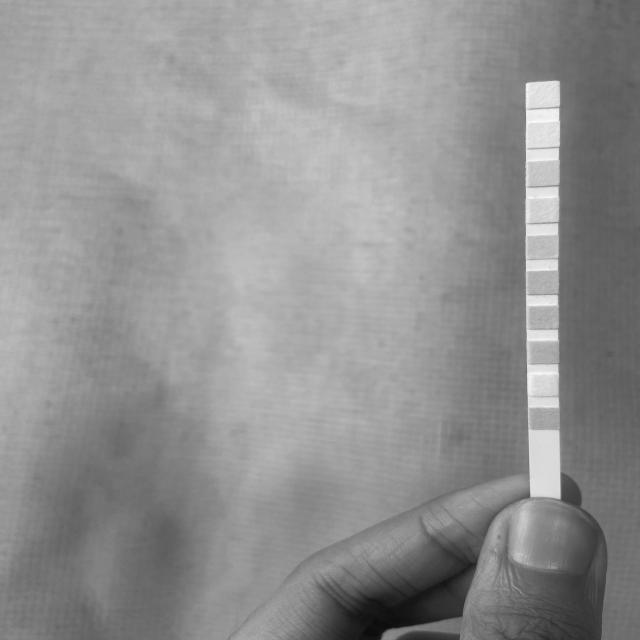Bilirubin: (530, 375, 558, 395)
Blood: (528, 272, 558, 293)
Glucose: (532, 408, 558, 429)
Ketone: (530, 342, 558, 362)
Leukocytes: (528, 85, 558, 106)
Nitrite: (528, 124, 558, 146)
Protein: (527, 200, 558, 221)
SpGravity: (529, 307, 558, 328)
Urobilinogen: (528, 163, 558, 185)
background: (0, 0, 640, 640)
pH: (528, 236, 557, 258)
strip: (526, 80, 561, 492)
